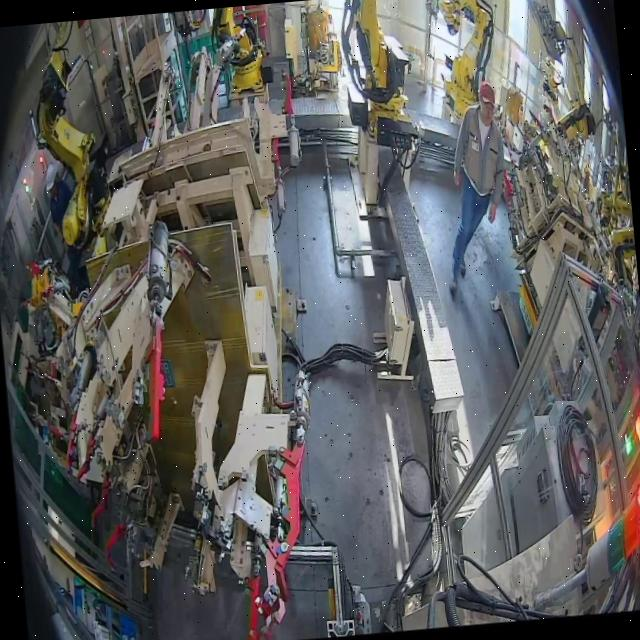Person: (432, 80, 516, 300)
